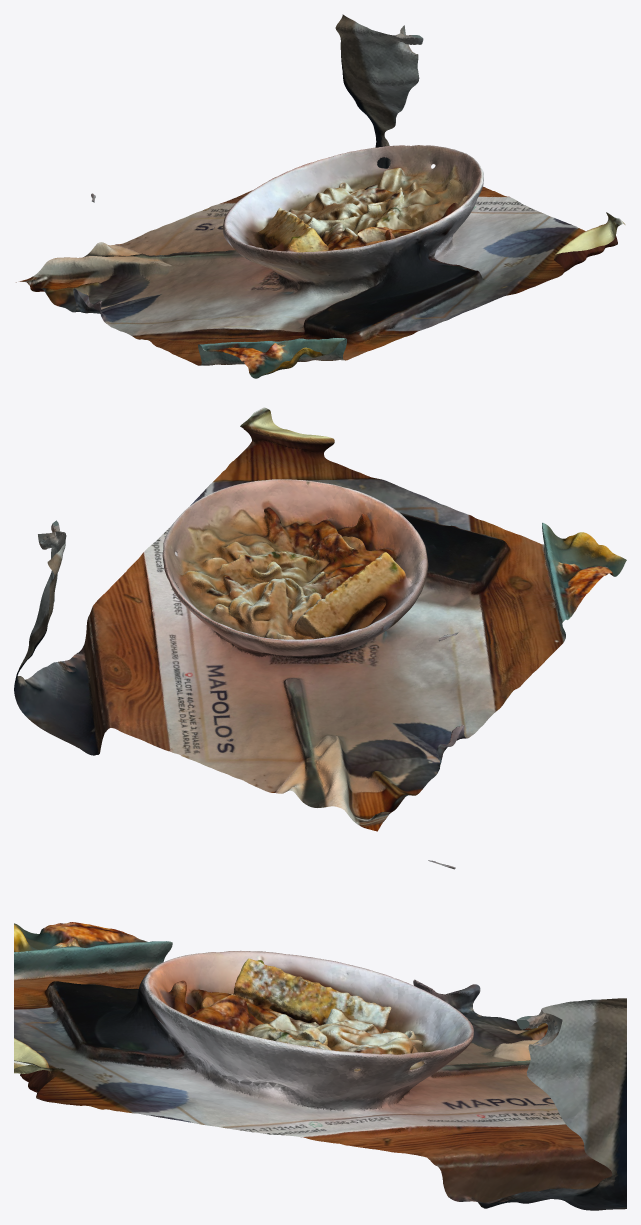
File: alfredo.glb
The picture shows the model from 3 angles, top to bottom: view 1: azimuth 30°, elevation 25°; view 2: azimuth 150°, elevation 25°; view 3: azimuth 270°, elevation 25°; orthographic projection. The views are drawn at different scales.
Parts seen in each view (by area): view 1: 3DModel; view 2: 3DModel; view 3: 3DModel.
Boxes of the visible parts, left/top/right/bottom form: 3DModel: left=16, top=14, right=625, bottom=378; 3DModel: left=14, top=407, right=626, bottom=831; 3DModel: left=14, top=860, right=626, bottom=1210.
Size of the model in its own units: 0.9556 by 0.4787 by 1.13.
Materials: 1 (1 with a texture image).
